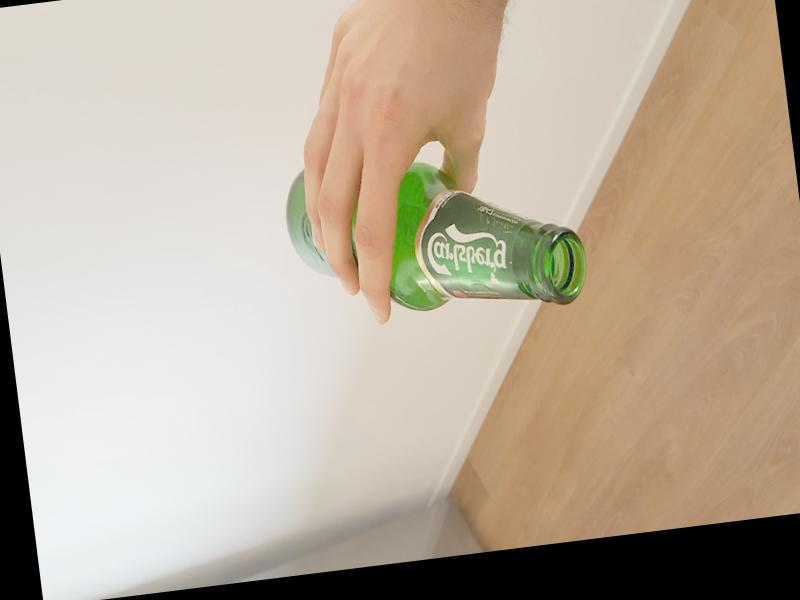Beer: (282, 142, 592, 335)
